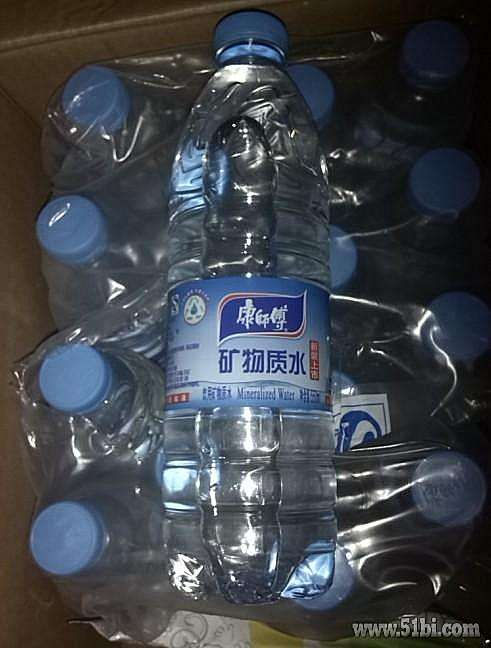amwater: (175, 1, 353, 606)
